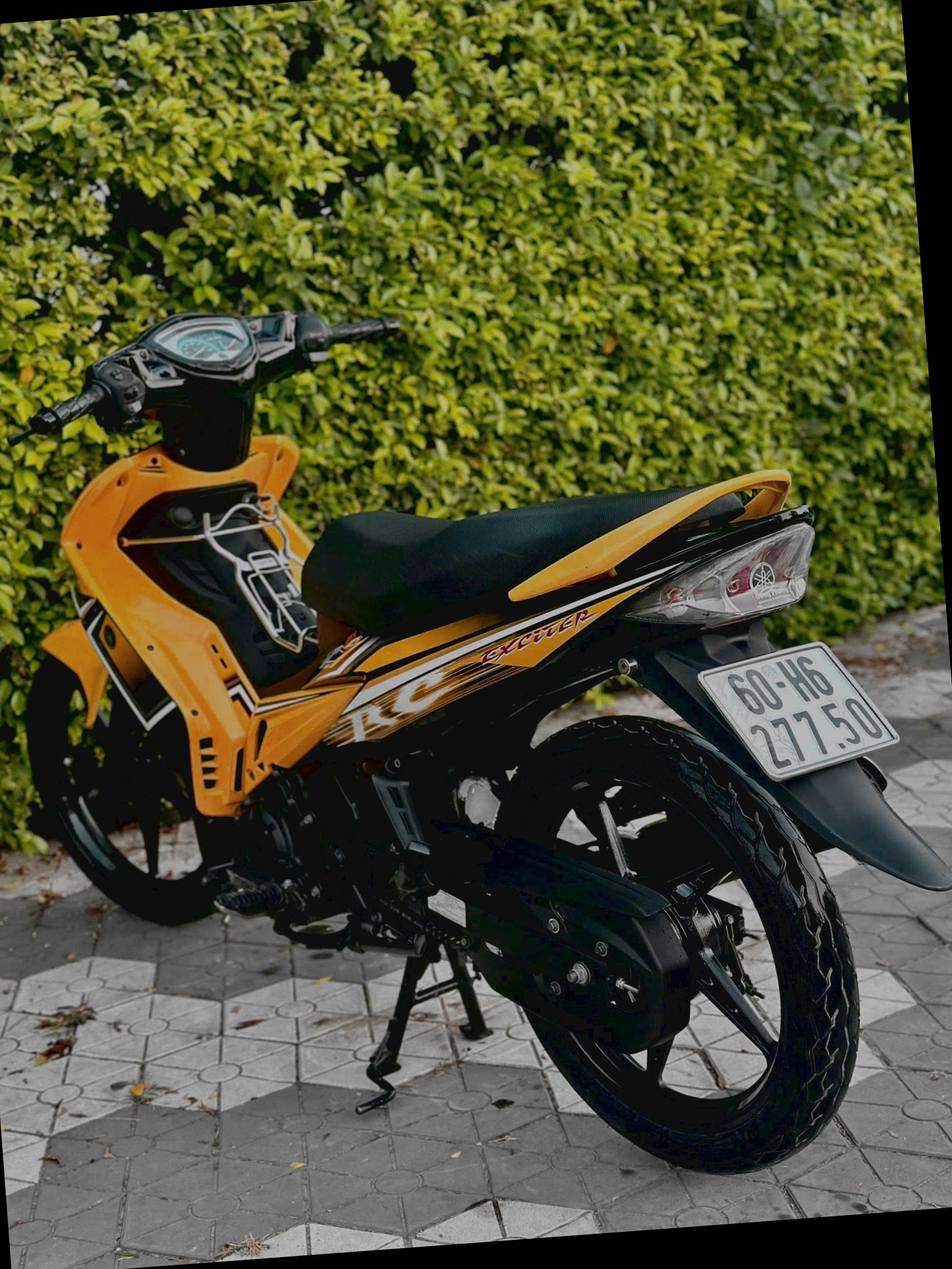Bien-so: (669, 715, 857, 864)
